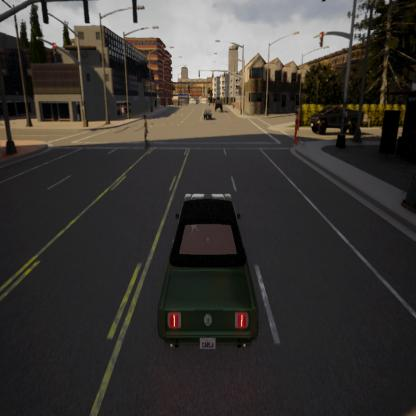Cars: (157, 189, 260, 353), (310, 106, 361, 138), (203, 105, 213, 123), (214, 96, 223, 114)
Pedestrian: (292, 110, 300, 152), (142, 112, 150, 152)
